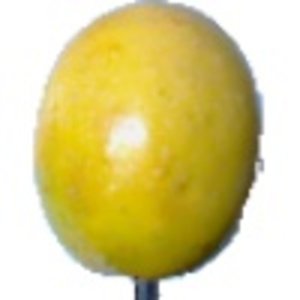maracujá: (32, 1, 266, 300)
